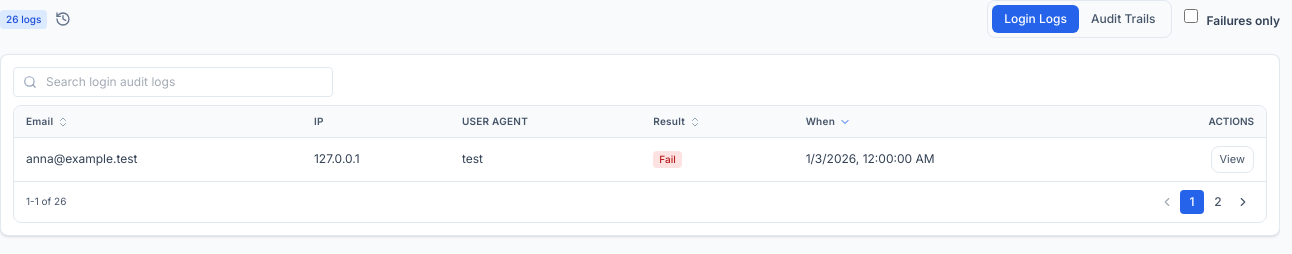
Test: Audit administration › uses authoritative server paging, search, failure filtering, and audit tabs
Expected: the text "anna@example.test" is shown, left=14, top=138, right=302, bottom=180
Expected: the text "26 logs" is shown, left=0, top=10, right=47, bottom=28
Click the button named "Next page" at (1243, 202), box left=1232, top=190, right=1254, bottom=212
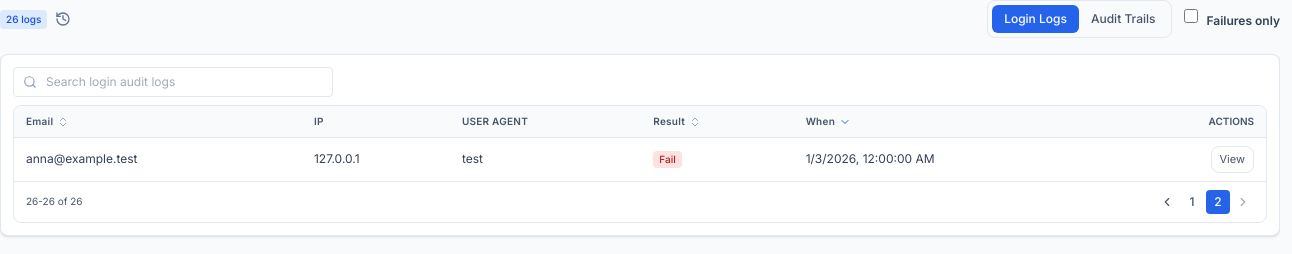
Type "locked" into the field labelled "Search login audit logs" at (173, 82), box left=13, top=67, right=333, bottom=97
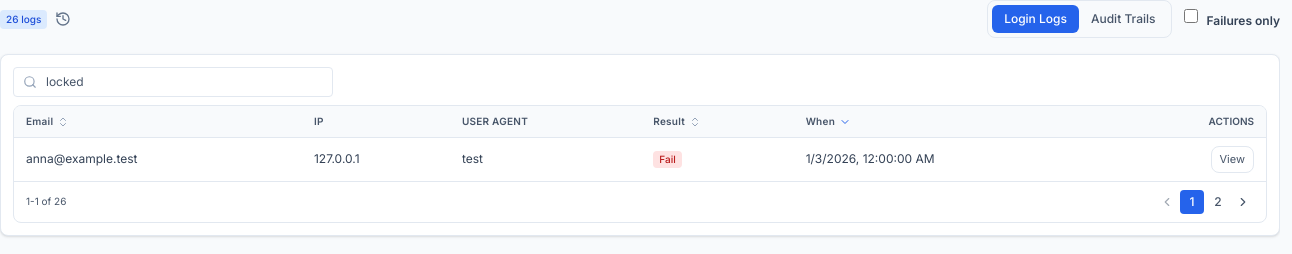
Click the checkbox labelled "Failures only" at (1192, 16), box left=1184, top=9, right=1198, bottom=23
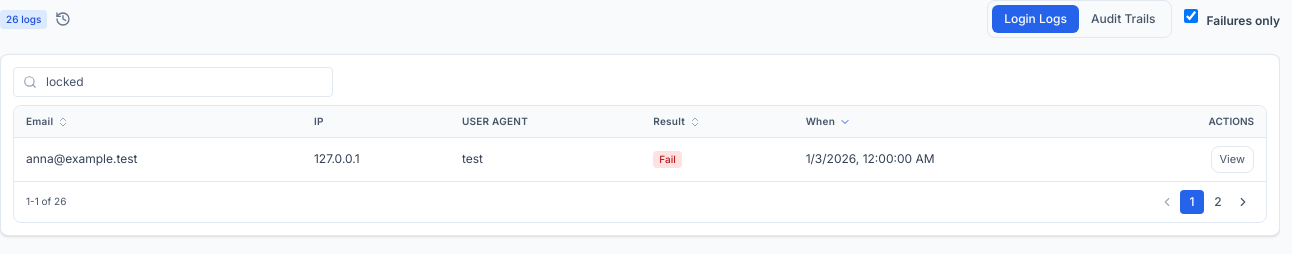
Click the button "Audit Trails" at (1123, 19), box left=1079, top=5, right=1168, bottom=33
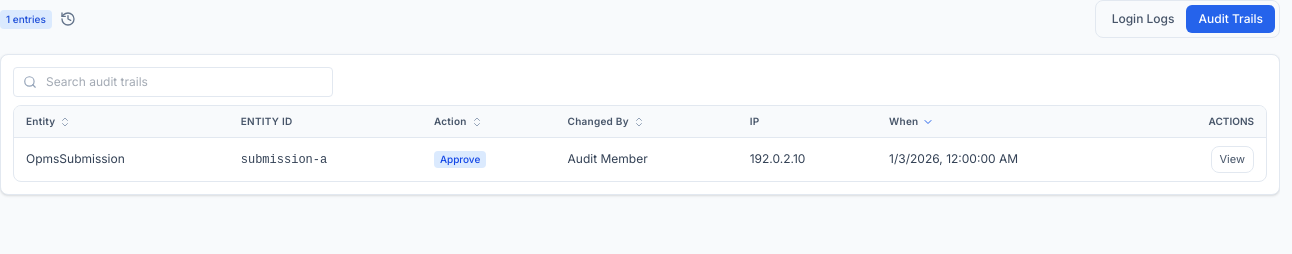
Now the text "OpmsSubmission" is shown, box left=14, top=138, right=229, bottom=180
